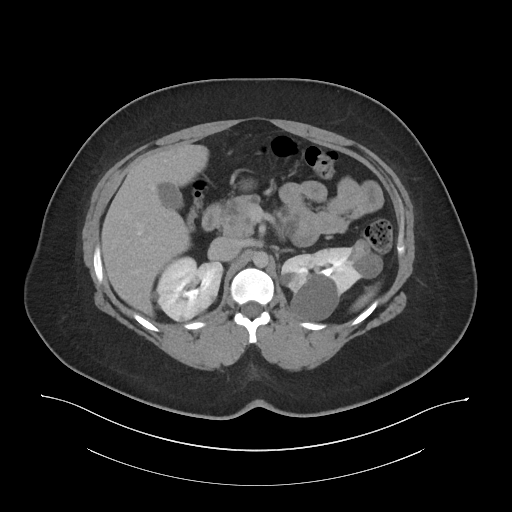Lesion: (343, 239, 373, 266)
